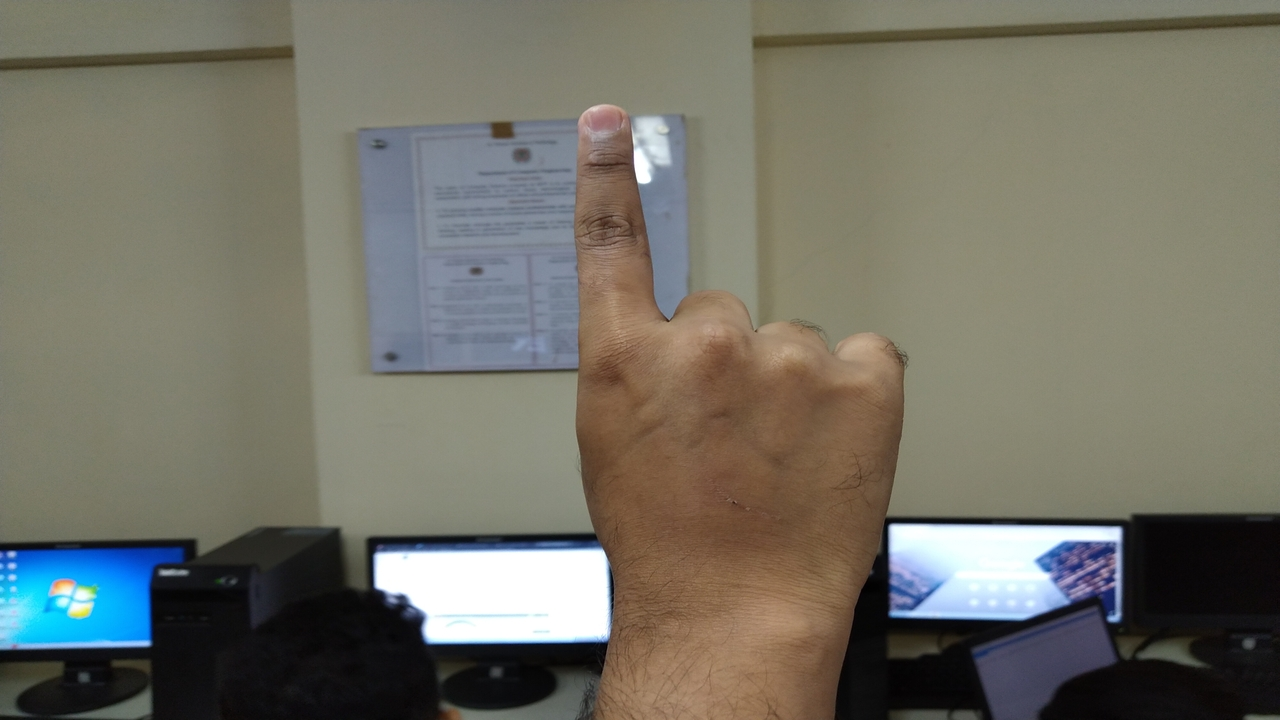fingertip: (566, 102, 636, 152)
